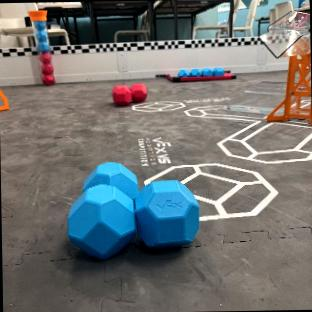V5_BLUE: (67, 161, 199, 259), (67, 182, 135, 258), (178, 67, 224, 77)
V5_RED: (112, 82, 147, 105), (40, 51, 53, 83)
